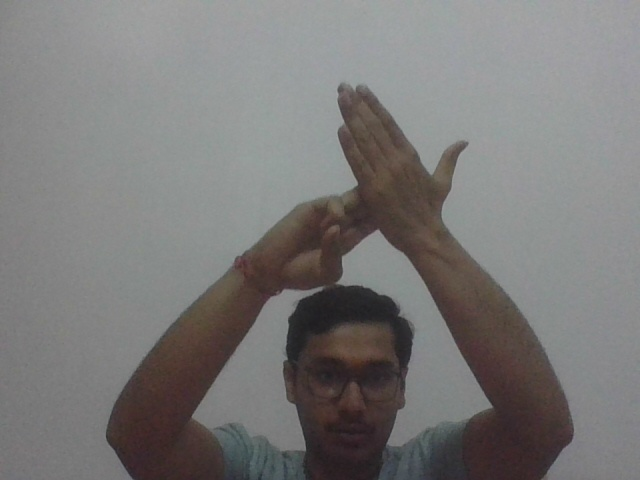M: (284, 76, 470, 286)
